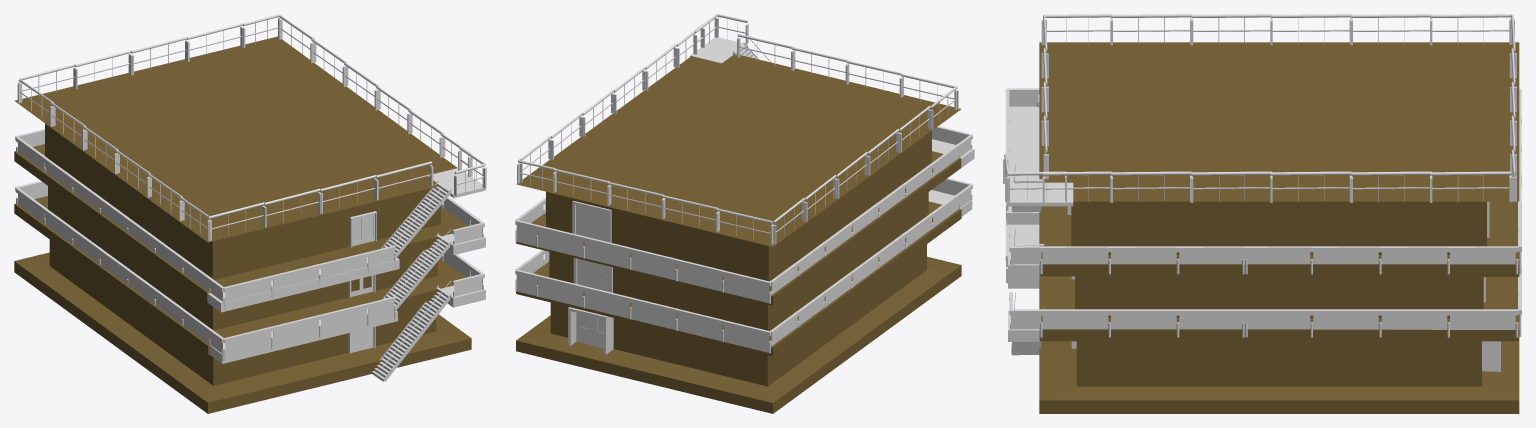
File: house04.fbx
3 views of the same model, side by side, from view 1: azimuth 30°, elevation 25°; view 2: azimuth 150°, elevation 25°; view 3: azimuth 270°, elevation 25° (orthographic). The views are drawn at different scales.
Parts seen in each view (by area): view 1: Box054, Box059, StraightStair002, StraightStair004, StraightStair003, Railing115, Railing117, Railing116, Box057, Box058, BiFold003, Railing060 (+31 smaller); view 2: Box054, Sliding001, Sliding003, Railing064, Railing119, Railing121, Railing068, Railing070, Railing123, Railing118, Railing063, Railing069 (+28 smaller); view 3: Box054, Box059, Railing100, Railing102, Railing098, Railing104, Railing099, Box058, Railing103, Railing097, Railing041, Railing045 (+23 smaller).
Part boxes in pixels (box(x1,y1,x2,y2)): Box054: box(14, 36, 471, 413); Box059: box(207, 257, 399, 312); StraightStair002: box(371, 281, 451, 381); StraightStair004: box(381, 177, 451, 257); StraightStair003: box(382, 229, 451, 310); Railing115: box(319, 303, 368, 337); Railing117: box(223, 326, 273, 360); Railing116: box(271, 314, 319, 349); Box057: box(209, 308, 397, 363); Box058: box(428, 168, 486, 198); BiFold003: box(350, 211, 376, 247); Railing060: box(319, 252, 368, 286); Box054: box(516, 55, 961, 413); Sliding001: box(568, 307, 613, 354); Sliding003: box(572, 201, 611, 242); Railing064: box(721, 270, 771, 303); Railing119: box(721, 320, 771, 353); Railing121: box(535, 274, 584, 307); Railing068: box(535, 225, 584, 257); Railing070: box(629, 248, 677, 281); Railing123: box(629, 297, 677, 330); Railing118: box(675, 308, 724, 341); Railing063: box(675, 259, 723, 291); Railing069: box(582, 236, 631, 269); Box054: box(1039, 42, 1519, 413); Box059: box(1006, 106, 1039, 224); Railing100: box(1447, 309, 1518, 337); Railing102: box(1040, 309, 1110, 337); Railing098: box(1310, 309, 1381, 337); Railing104: box(1176, 309, 1247, 337); Railing099: box(1379, 309, 1449, 337); Box058: box(1007, 182, 1073, 206); Railing103: box(1108, 309, 1179, 337); Railing097: box(1242, 309, 1312, 337); Railing041: box(1447, 246, 1518, 274); Railing045: box(1176, 246, 1247, 274).
Bounding box in the file's own units: 12.42 × 9.01 × 16.93.
